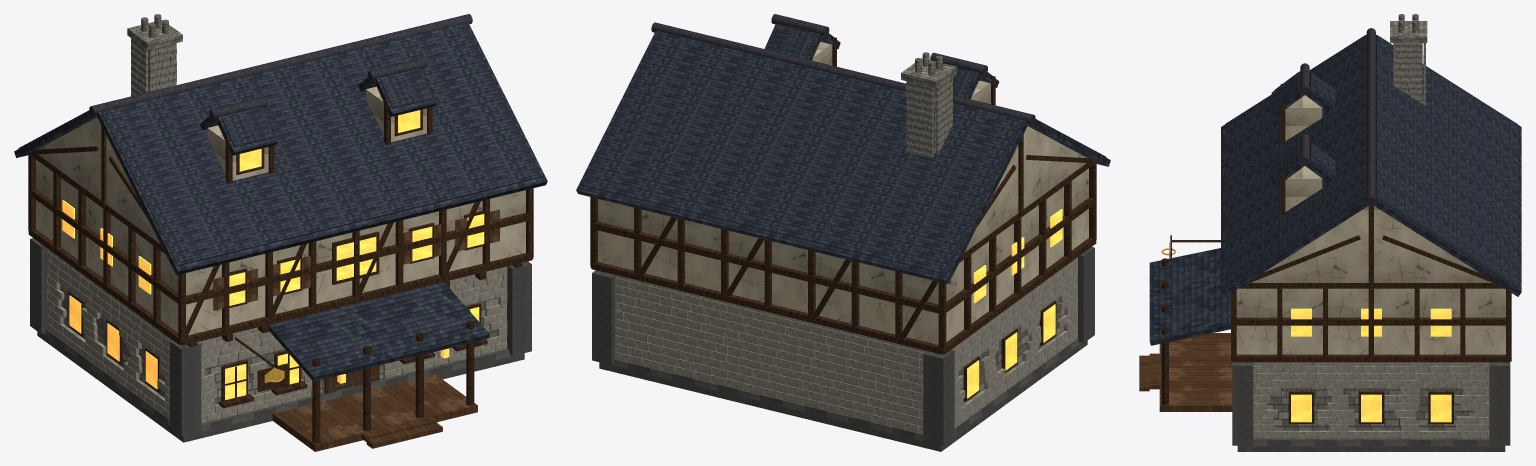
Rendered from bld_valoria_adventurer_guild.glb.
3 renders of one model, left to right at view 1: azimuth 30°, elevation 25°; view 2: azimuth 150°, elevation 25°; view 3: azimuth 270°, elevation 25°, orthographic. The views are drawn at different scales.
Parts seen in each view (by area): view 1: slate_roof, window_frames, upper_plaster, hewn_relief, plinth_stone, shutters_deck, lit_glass_upper, ridge_caps, chimney_stone, lit_glass_ground, ashlar_walls, oak_double_doors; view 2: slate_roof, hewn_relief, upper_plaster, window_frames, plinth_stone, chimney_stone, ridge_caps, lit_glass_ground, lit_glass_upper, ashlar_walls; view 3: slate_roof, upper_plaster, window_frames, hewn_relief, plinth_stone, shutters_deck, ashlar_walls, chimney_stone, ridge_caps, lit_glass_ground, lit_glass_upper.
Boxes of the visible parts, left/top/right/bottom form: slate_roof: left=14, top=22, right=547, bottom=381; window_frames: left=28, top=89, right=533, bottom=443; upper_plaster: left=36, top=86, right=525, bottom=335; hewn_relief: left=47, top=248, right=507, bottom=423; plinth_stone: left=30, top=238, right=531, bottom=442; shutters_deck: left=213, top=209, right=499, bottom=451; lit_glass_upper: left=62, top=110, right=484, bottom=305; ridge_caps: left=89, top=14, right=472, bottom=119; chimney_stone: left=127, top=14, right=182, bottom=96; lit_glass_ground: left=69, top=295, right=479, bottom=399; ashlar_walls: left=59, top=284, right=498, bottom=404; oak_double_doors: left=324, top=365, right=379, bottom=394; slate_roof: left=576, top=23, right=1110, bottom=284; hewn_relief: left=606, top=257, right=1077, bottom=434; upper_plaster: left=598, top=42, right=1088, bottom=344; window_frames: left=590, top=37, right=1096, bottom=401; plinth_stone: left=592, top=247, right=1094, bottom=451; chimney_stone: left=901, top=52, right=956, bottom=157; ridge_caps: left=651, top=14, right=1035, bottom=124; lit_glass_ground: left=967, top=304, right=1055, bottom=398; lit_glass_upper: left=973, top=209, right=1062, bottom=303; ashlar_walls: left=958, top=297, right=1064, bottom=404; slate_roof: left=1149, top=35, right=1521, bottom=345; upper_plaster: left=1236, top=95, right=1505, bottom=354; window_frames: left=1161, top=84, right=1511, bottom=423; hewn_relief: left=1253, top=362, right=1489, bottom=438; plinth_stone: left=1232, top=361, right=1510, bottom=451; shutters_deck: left=1139, top=333, right=1232, bottom=411; ashlar_walls: left=1255, top=362, right=1489, bottom=436; chimney_stone: left=1390, top=14, right=1427, bottom=105; ridge_caps: left=1300, top=28, right=1375, bottom=205; lit_glass_ground: left=1291, top=394, right=1451, bottom=422; lit_glass_upper: left=1291, top=308, right=1451, bottom=336.
Bounding box in the file's own units: 17.2 × 14.7 × 16.44.
10 materials, 10 textured.
